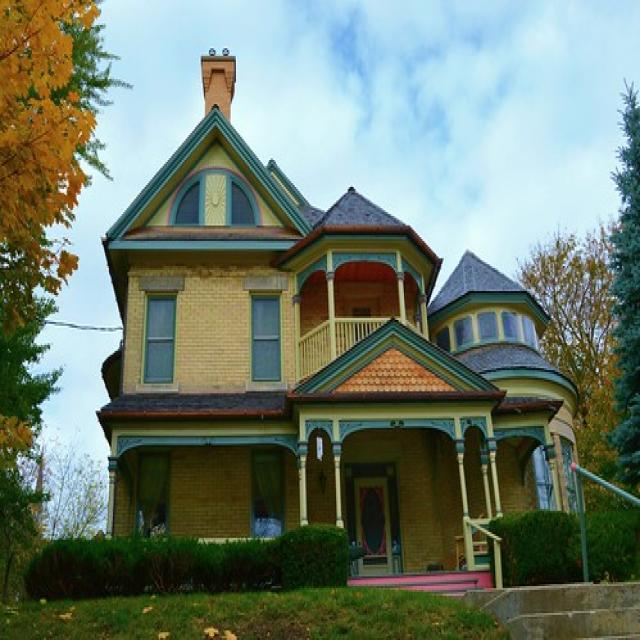building: (90, 42, 594, 585)
